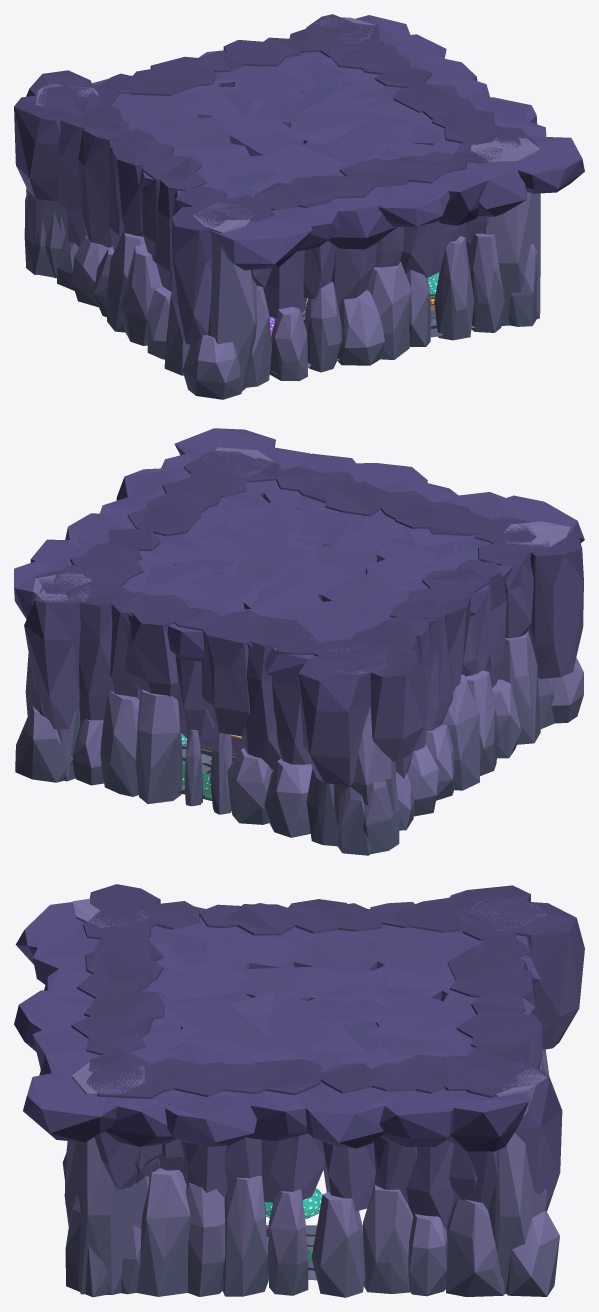
The model's file is fungal-hall.glb.
3 renders of one model, top to bottom at view 1: azimuth 30°, elevation 25°; view 2: azimuth 150°, elevation 25°; view 3: azimuth 270°, elevation 25°, orthographic. The views are drawn at different scales.
Parts seen in each view (by area): view 1: Batched static valley; view 2: Batched static valley; view 3: Batched static valley.
Part boxes in pixels (left/top/right/bottom): Batched static valley: left=14, top=14, right=584, bottom=399; Batched static valley: left=14, top=428, right=584, bottom=855; Batched static valley: left=14, top=884, right=584, bottom=1297.
Bounding box in the file's own units: 54.01 × 21.6 × 55.21.
9 materials, 2 textured.
